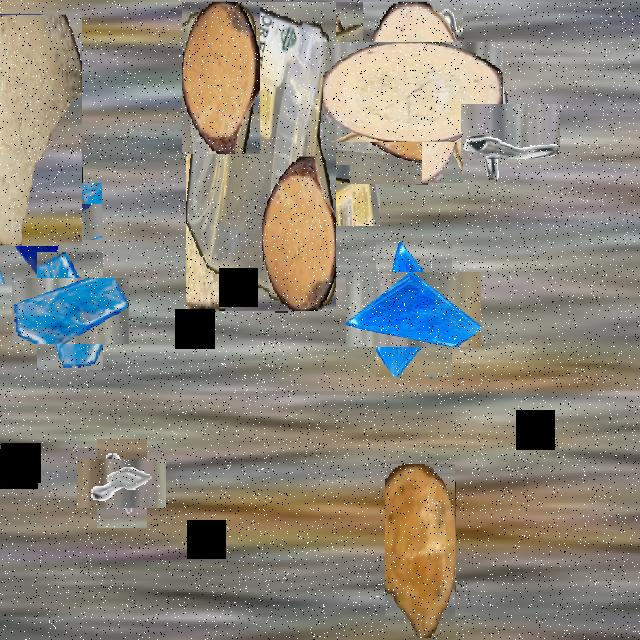glass: (361, 257, 467, 362), (24, 265, 116, 357), (0, 160, 80, 262)
metal: (330, 2, 392, 112), (472, 93, 550, 170), (87, 449, 157, 518)
plastic: (186, 2, 336, 311)
wood: (219, 23, 401, 205), (343, 22, 483, 163), (0, 14, 82, 246), (385, 464, 455, 638), (182, 2, 260, 154)
